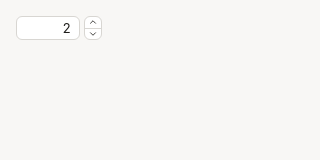
Scenario: Stepper › buttons step and disable at the bounds; typed values clamp
Click the button named "Increase": (93, 22) [85,17,101,28]
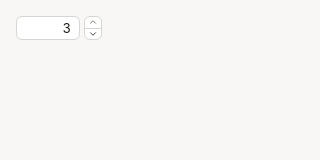
Result: the number field has attribute aria-valuenow="3"
Replace the text in the number field with "-5": (48, 28) [16,16,80,40]
Then press Enter
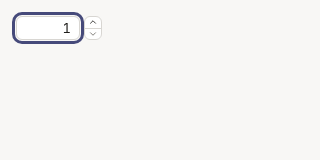
Result: the number field holds "1" at [16,16,80,40]
